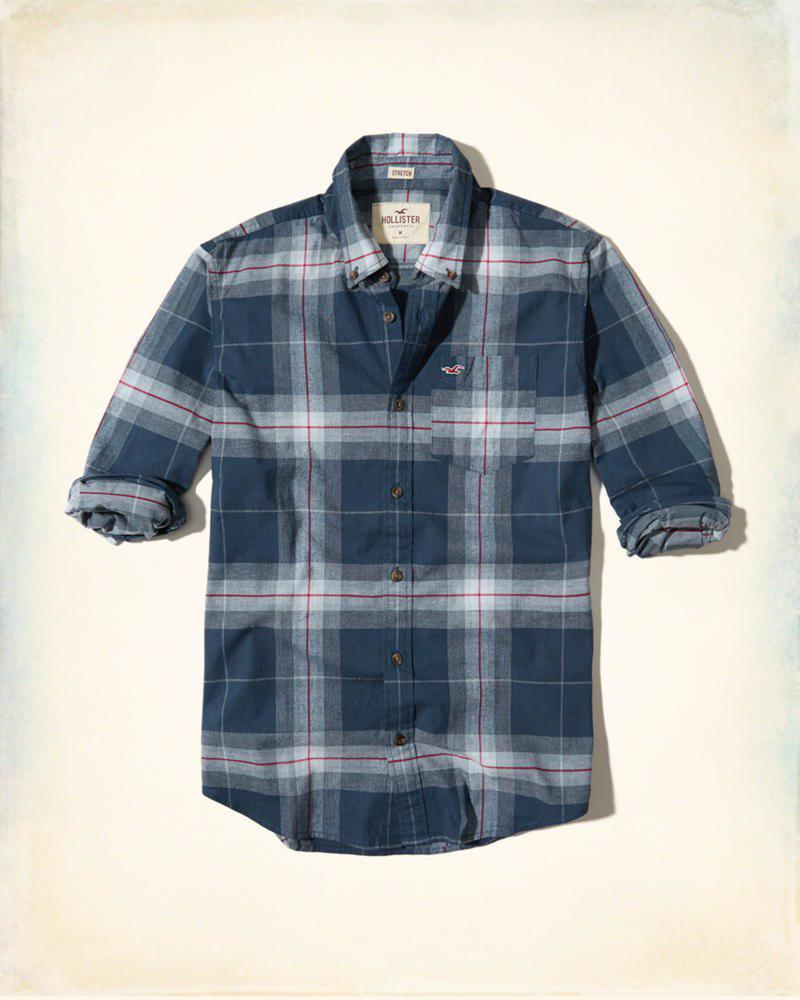teeshirt: (79, 127, 741, 895)
